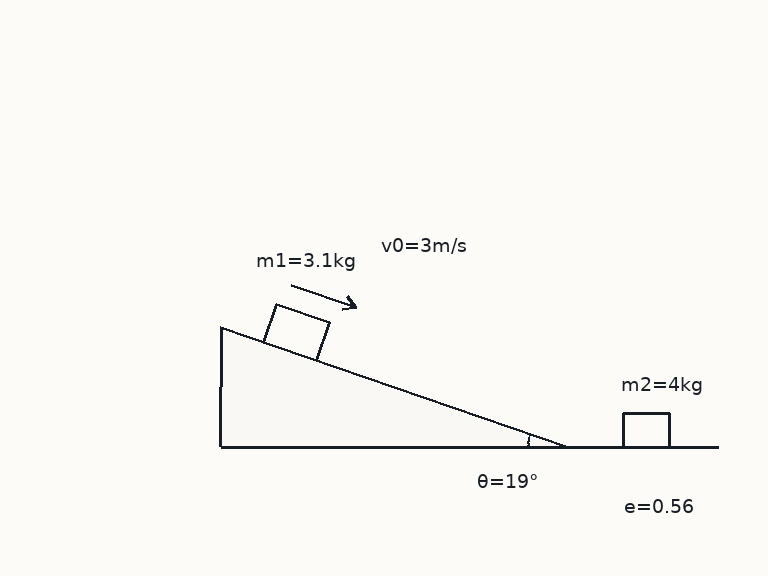block: (261, 301, 331, 362), (621, 411, 671, 449)
ramp: (218, 325, 570, 449)
